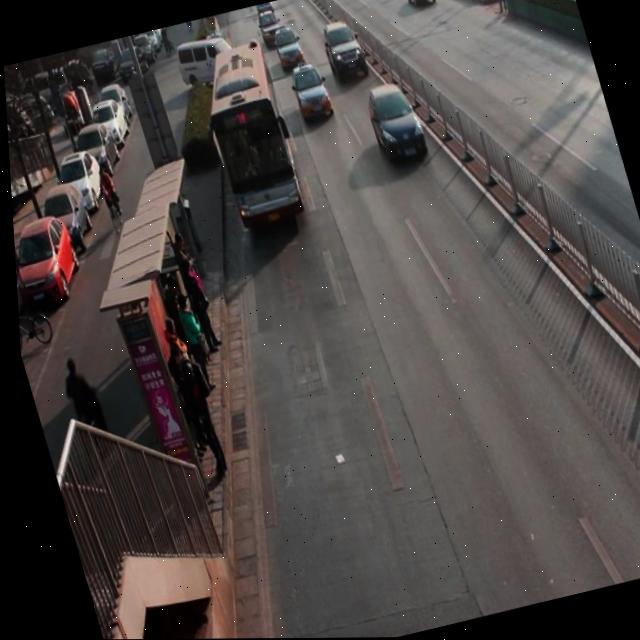car: (362, 79, 427, 166), (321, 19, 371, 85), (271, 29, 307, 73), (255, 9, 285, 48), (204, 28, 233, 63), (401, 0, 441, 9), (255, 1, 274, 15)
truck: (288, 63, 336, 125), (202, 34, 237, 88)
van: (187, 37, 303, 229)
